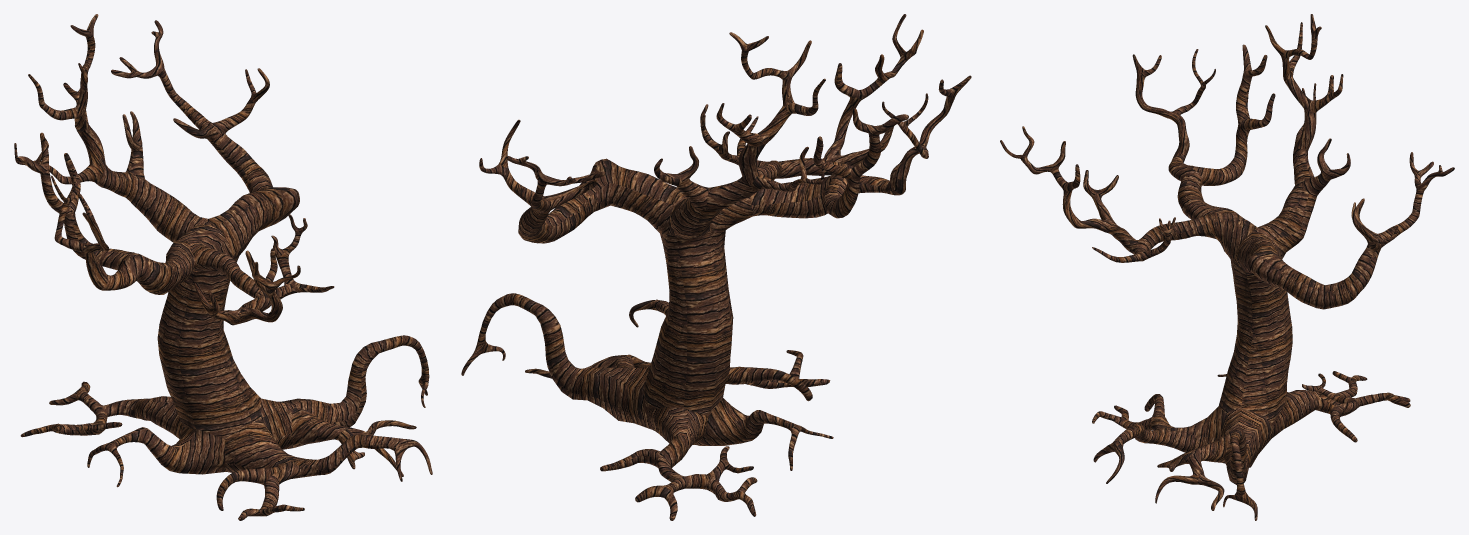
File: tree.fbx
3 views of the same model, side by side, from view 1: azimuth 30°, elevation 25°; view 2: azimuth 150°, elevation 25°; view 3: azimuth 270°, elevation 25° (orthographic). The views are drawn at different scales.
Parts seen in each view (by area): view 1: LeaflessTree; view 2: LeaflessTree; view 3: LeaflessTree.
Boxes of the visible parts, box(x1,y1,x2,y2) form: LeaflessTree: box(14, 14, 432, 520); LeaflessTree: box(461, 14, 971, 520); LeaflessTree: box(1000, 14, 1454, 520).
Size of the model in its own units: 15.28 by 15.52 by 16.53.
1 material, 1 textured.
